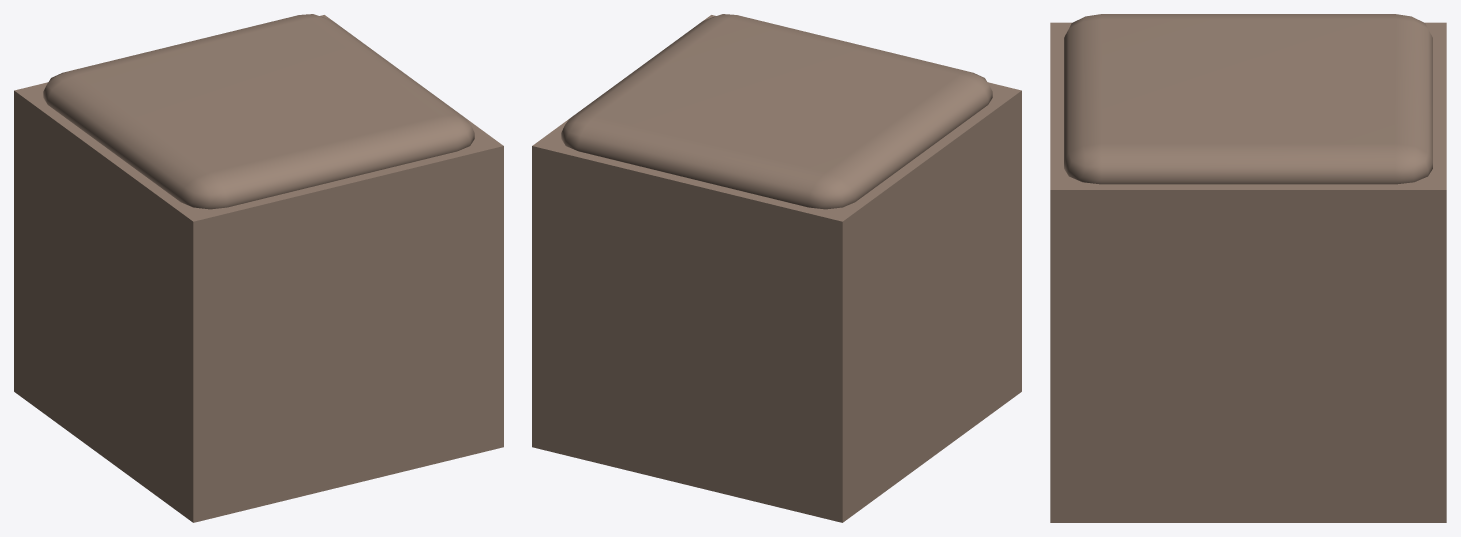
The model's file is floor_pad_new.fbx.
The picture shows the model from 3 angles, left to right: view 1: azimuth 30°, elevation 25°; view 2: azimuth 150°, elevation 25°; view 3: azimuth 270°, elevation 25°; orthographic projection. The views are drawn at different scales.
Parts seen in each view (by area): view 1: floor_with_pad; view 2: floor_with_pad; view 3: floor_with_pad.
Boxes of the visible parts, x1,y1,x2,y2 form: floor_with_pad: [14, 14, 503, 522]; floor_with_pad: [532, 14, 1021, 522]; floor_with_pad: [1050, 14, 1446, 522].
Bounding box in the file's own units: 1 × 0.9966 × 1.
